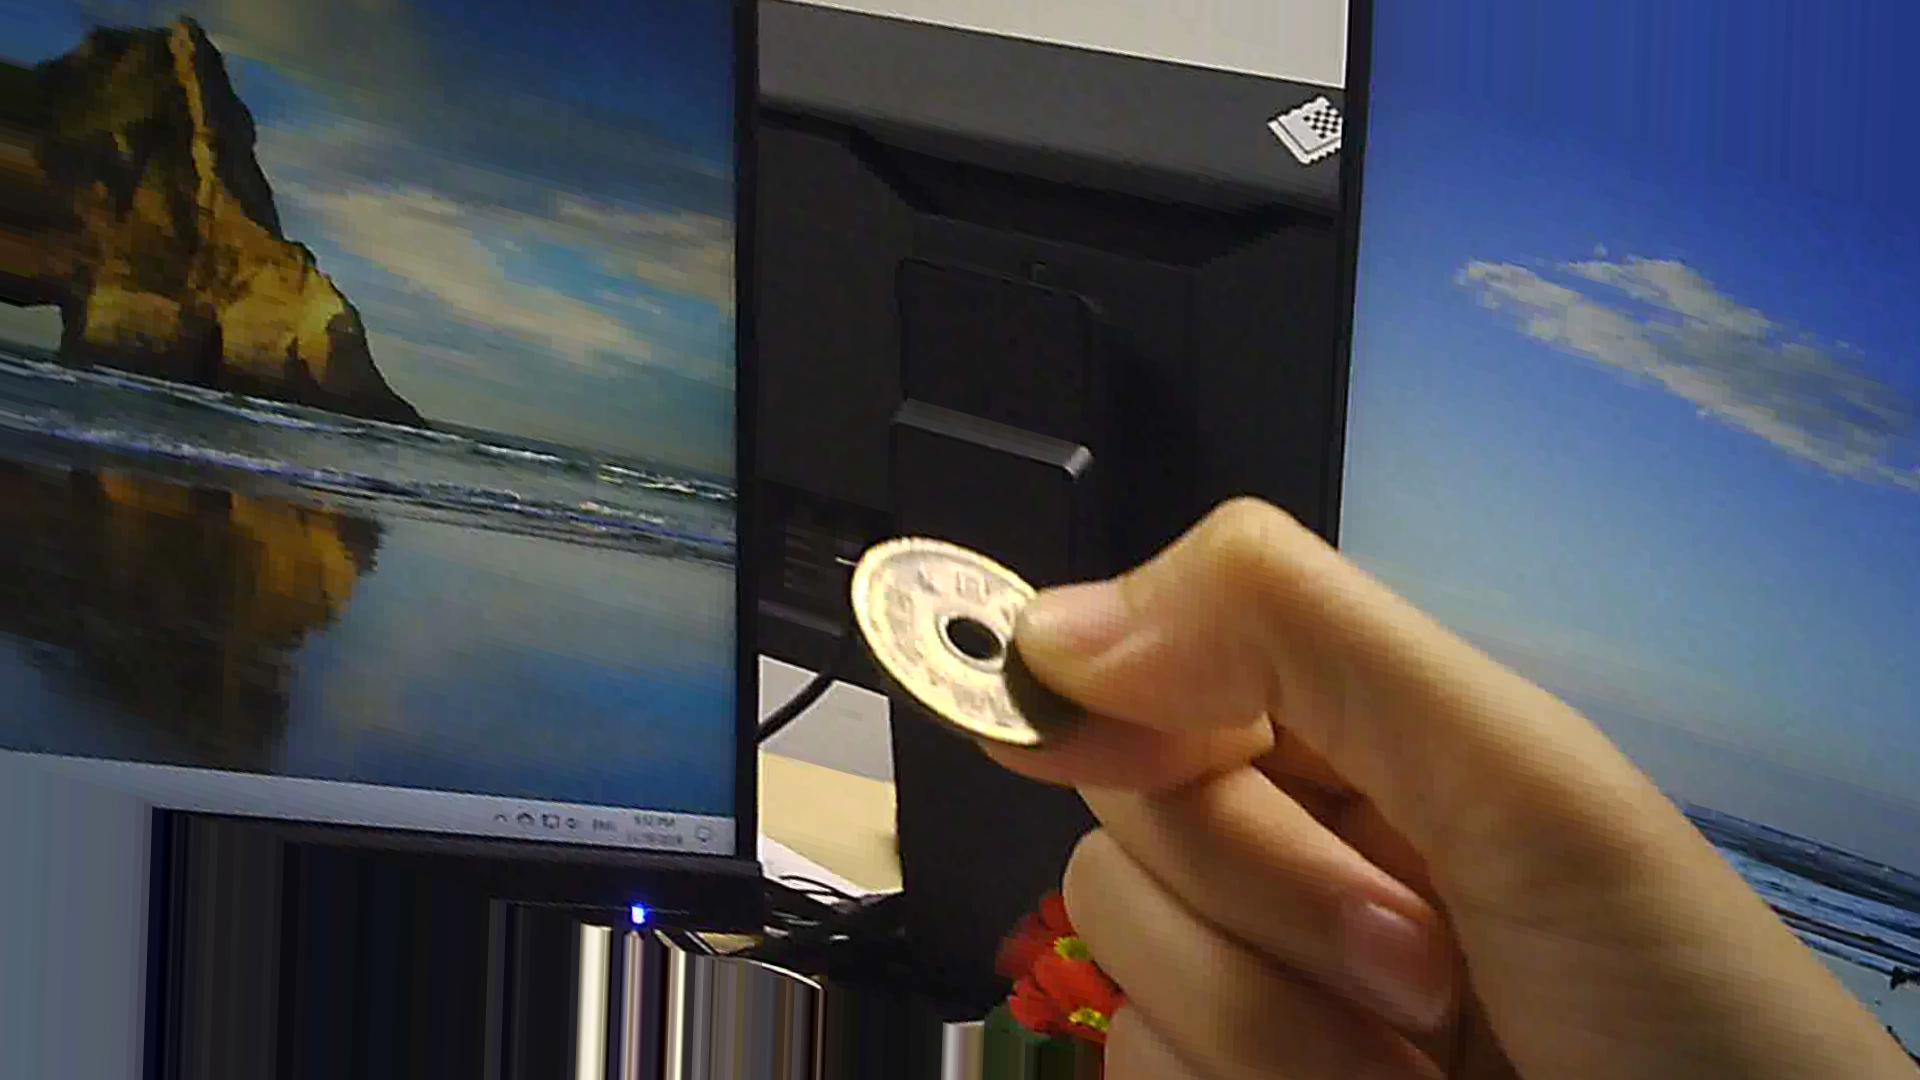5 Yen: (849, 535, 1087, 777)
